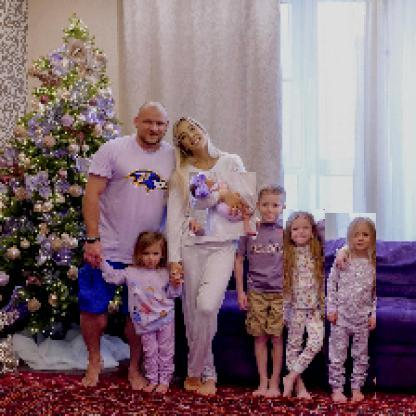child: (100, 231, 183, 395), (233, 185, 292, 401), (326, 214, 378, 406), (284, 210, 327, 399), (190, 173, 258, 238)
